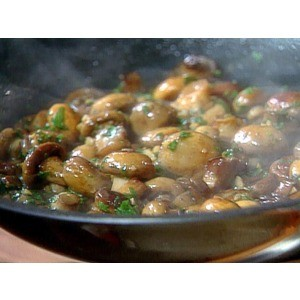mushroom_brain food: (40, 72, 251, 180)
